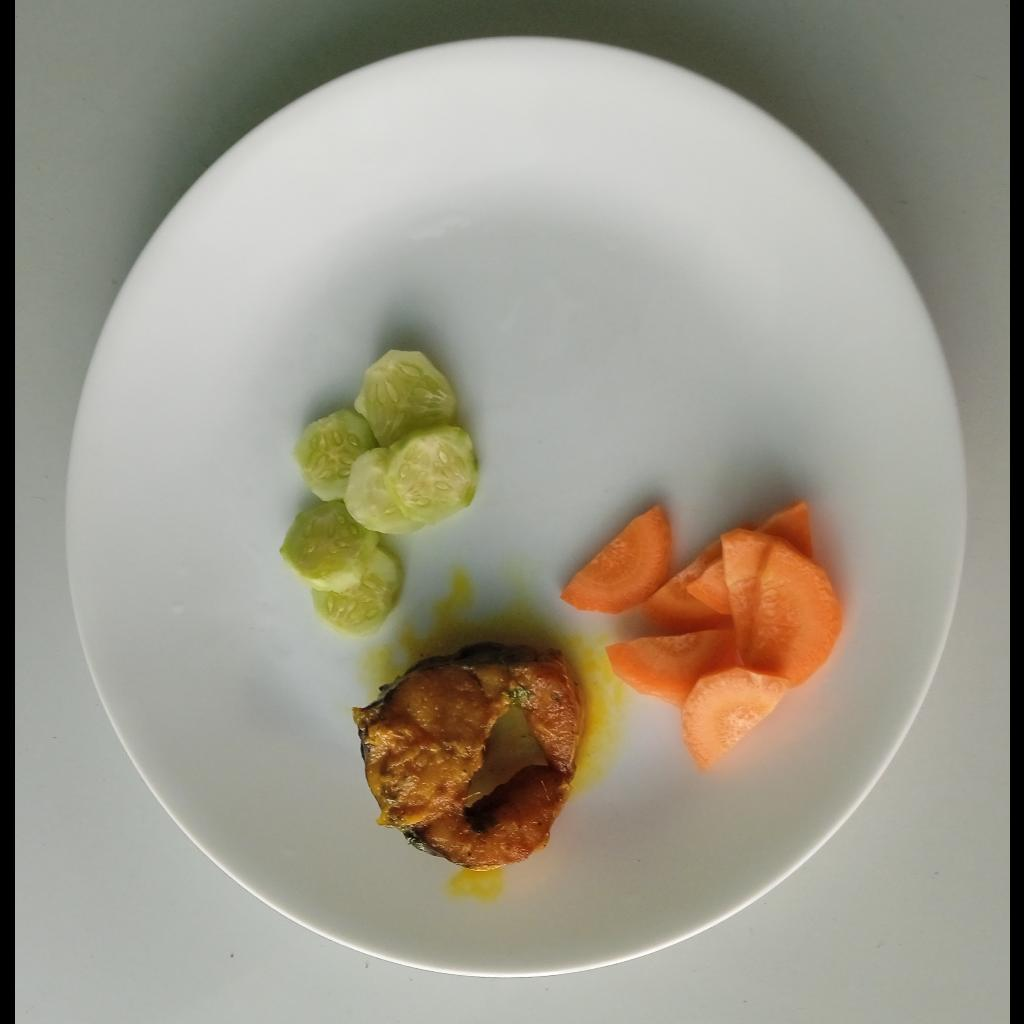carrot: (556, 497, 844, 779)
cucumber: (275, 348, 475, 632)
fish: (353, 639, 589, 876)
